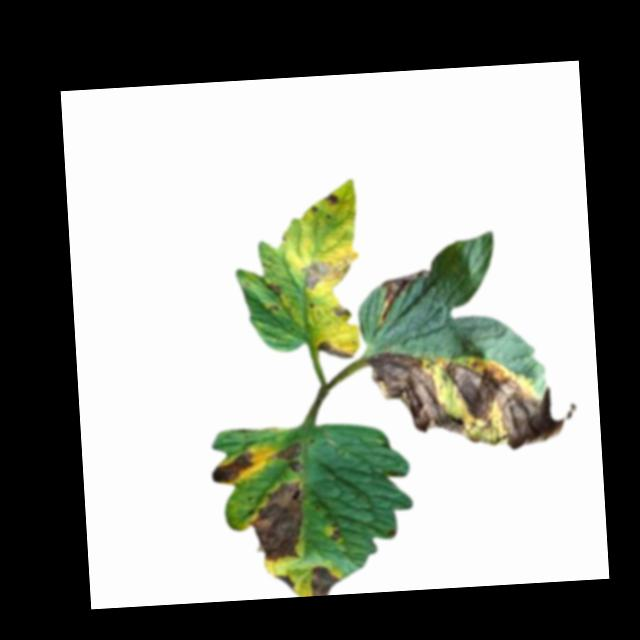Early_blight: (369, 340, 578, 458), (247, 479, 310, 564), (374, 267, 431, 329), (300, 258, 353, 292), (211, 450, 258, 486), (308, 563, 343, 595), (273, 441, 304, 474), (316, 339, 353, 363), (273, 571, 295, 594), (328, 522, 344, 543), (322, 192, 340, 208), (266, 282, 281, 299), (334, 304, 351, 318)
